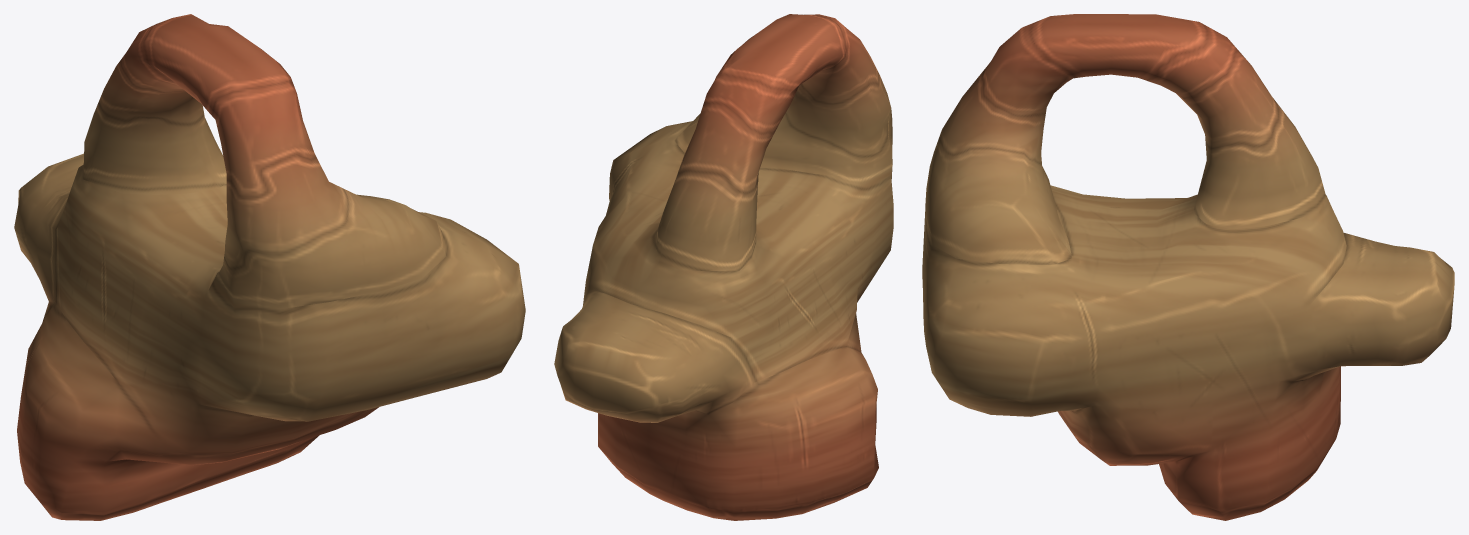
File: Desert_Stone_4.fbx
3 views of the same model, side by side, from view 1: azimuth 30°, elevation 25°; view 2: azimuth 150°, elevation 25°; view 3: azimuth 270°, elevation 25° (orthographic). The views are drawn at different scales.
Visible parts, largest first — view 1: Desert_Stone_5; view 2: Desert_Stone_5; view 3: Desert_Stone_5.
Boxes of the visible parts, x1,y1,x2,y2 form: Desert_Stone_5: (14, 14, 525, 520); Desert_Stone_5: (554, 14, 893, 520); Desert_Stone_5: (922, 14, 1454, 520).
Bounding box in the file's own units: 850 × 1012 × 1108.
